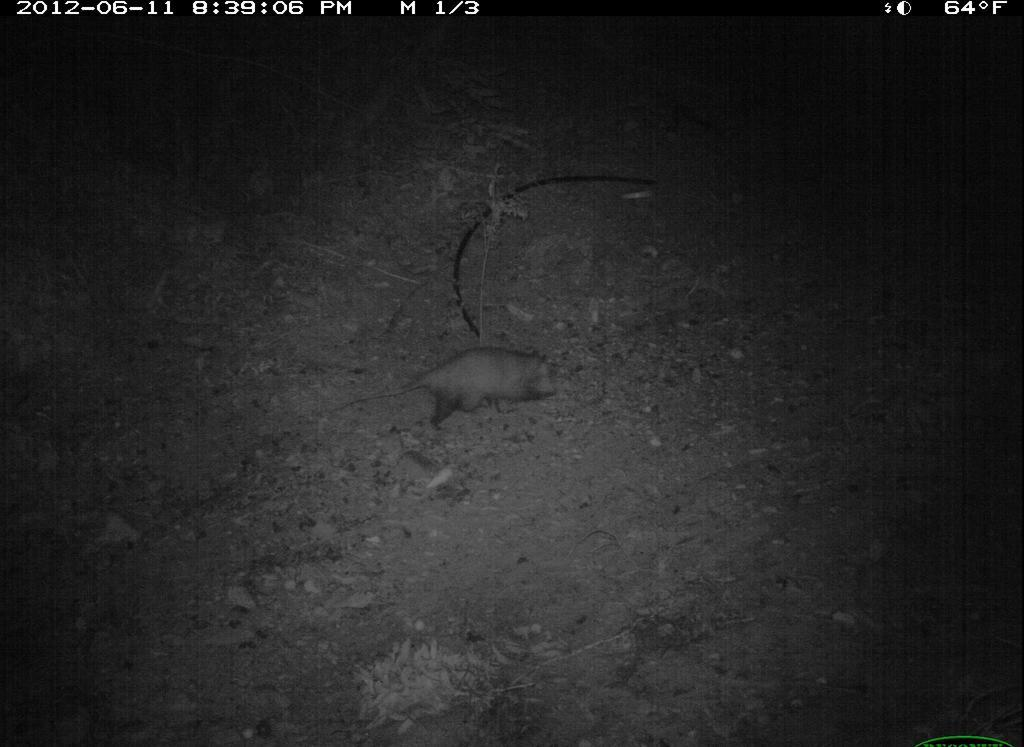opossum: (400, 342, 573, 446)
